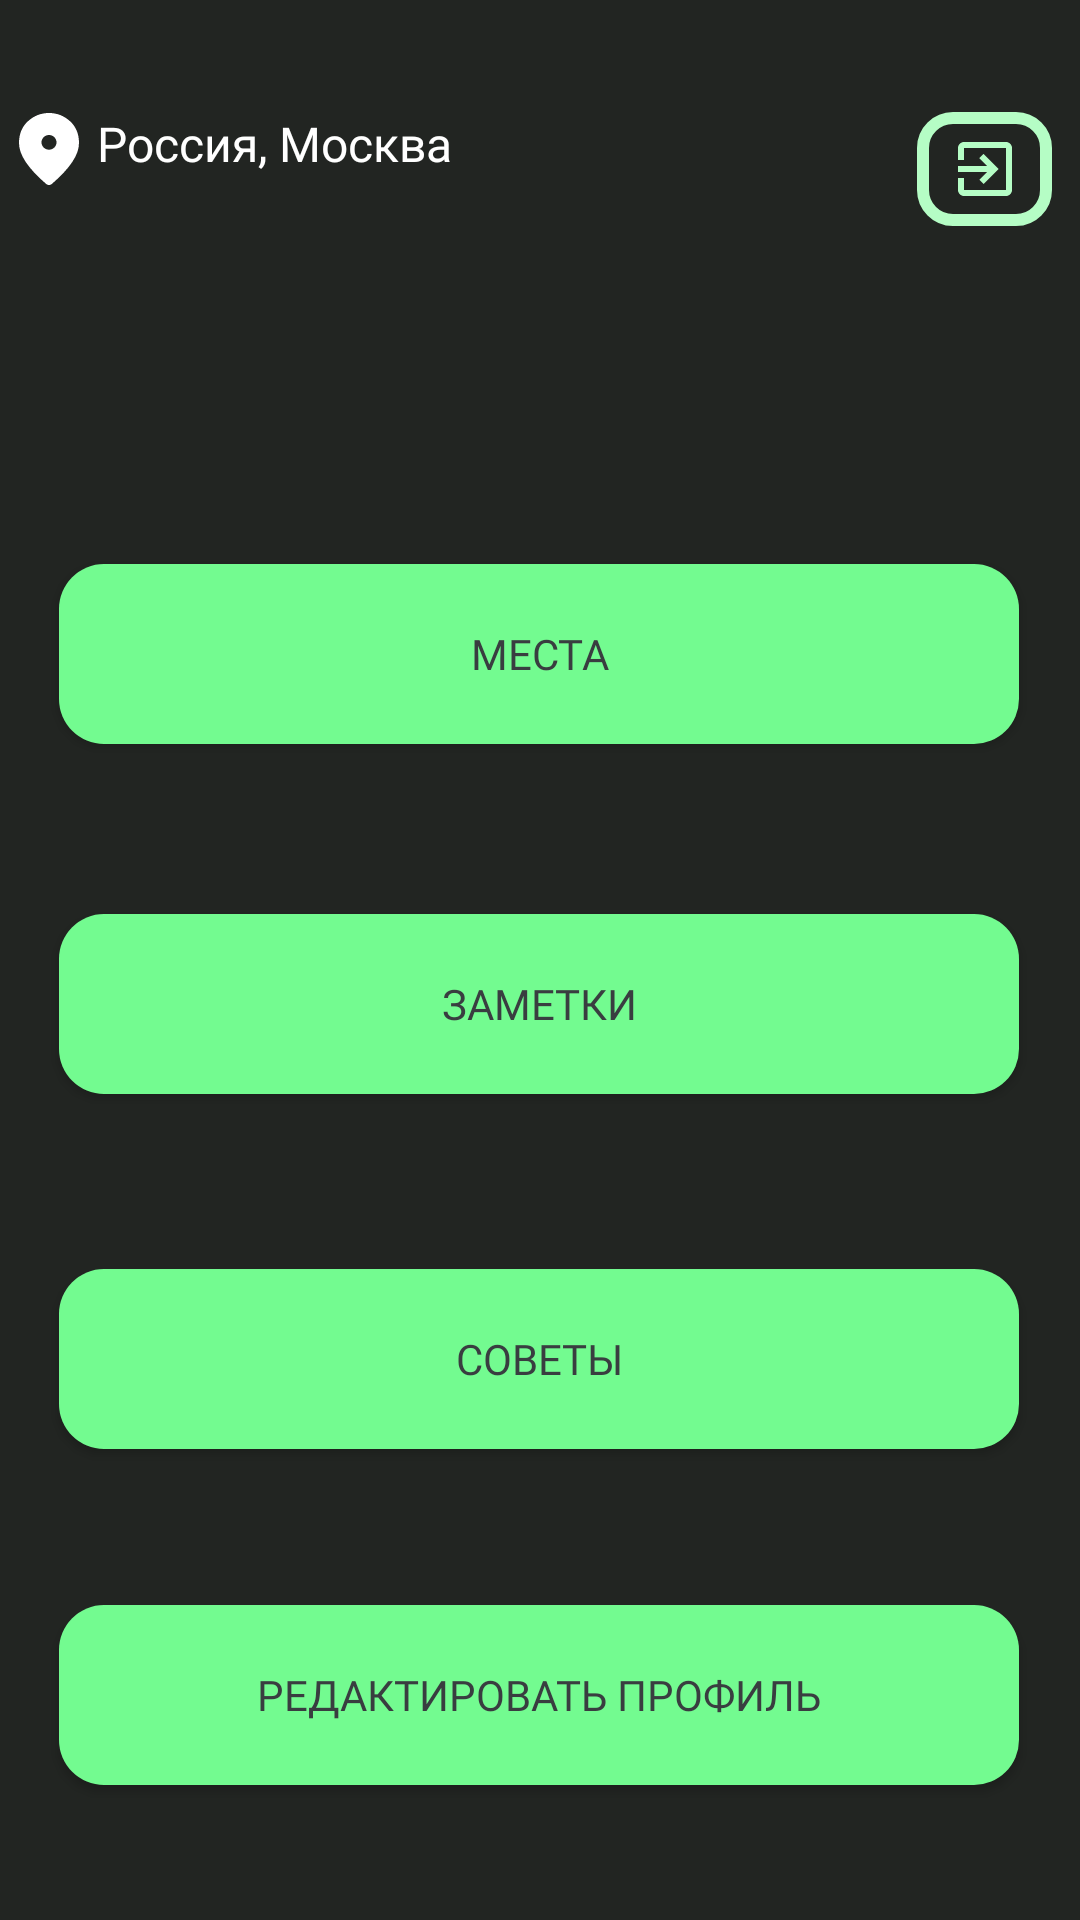

Point at icon controls on the screen. Image size 1080px×1920px, points as [x,y].
exit to app: [984,169]
location: [49,149]
